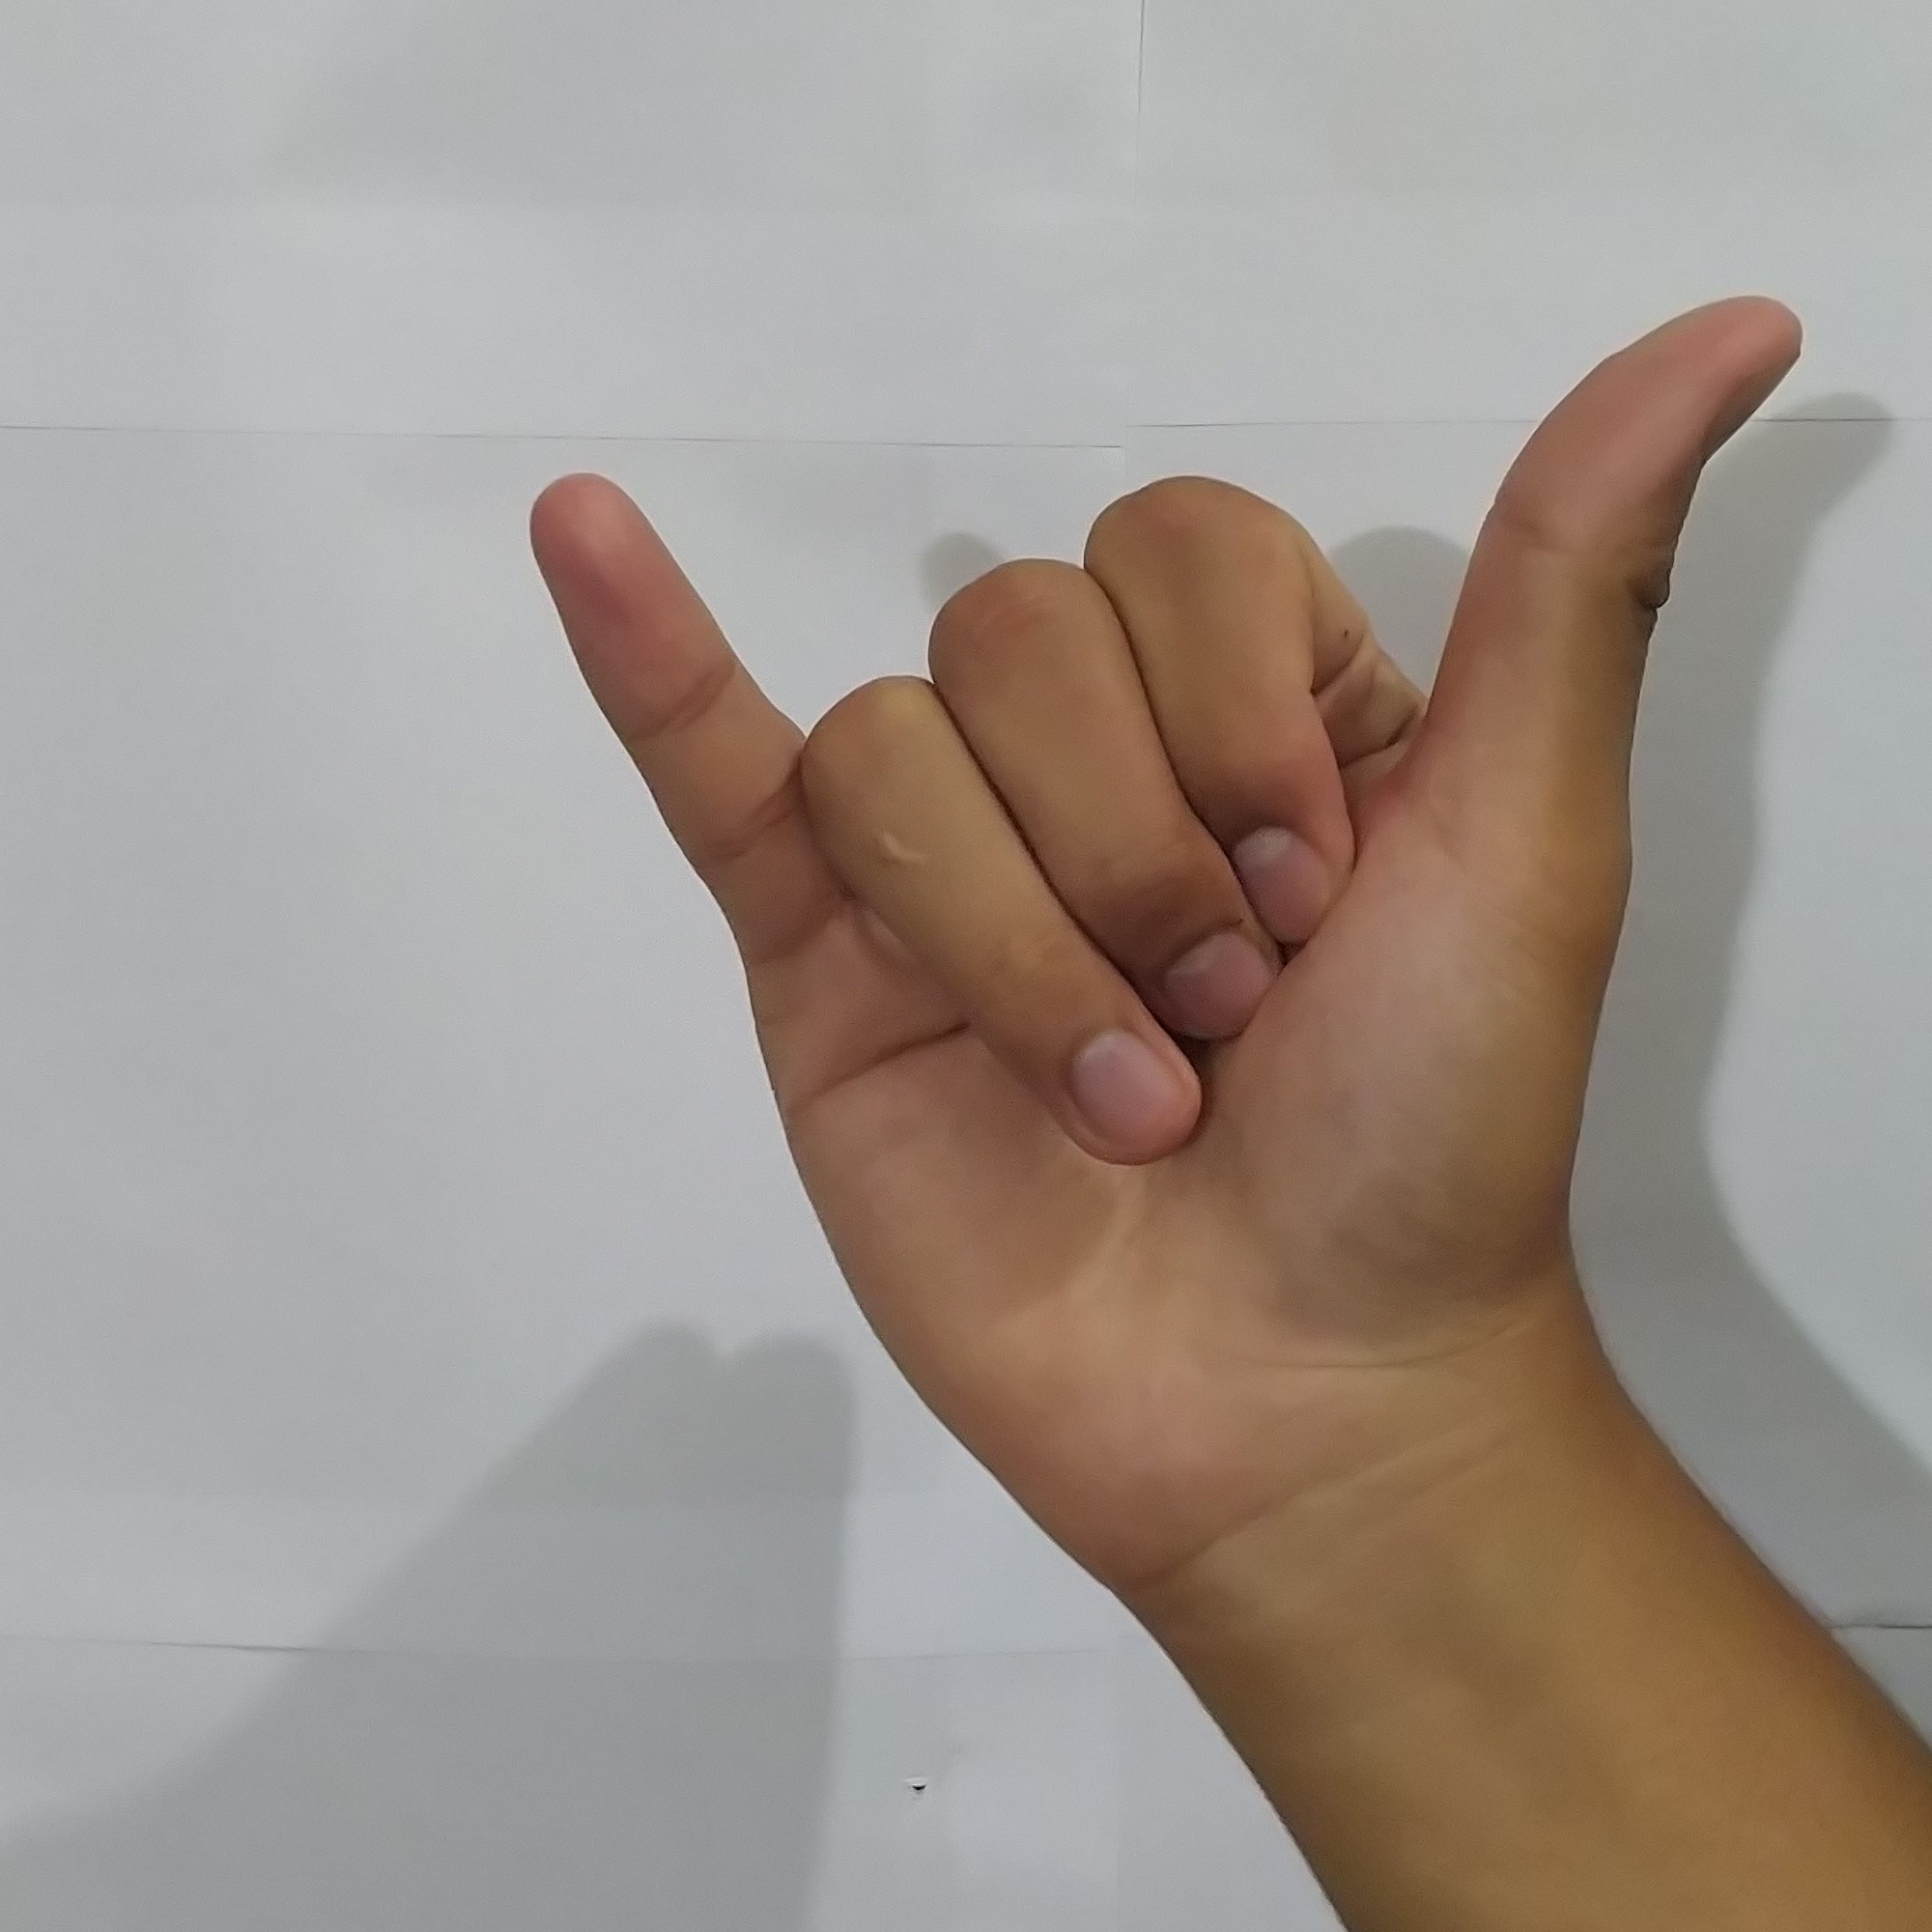Y: (492, 251, 1819, 1626)
